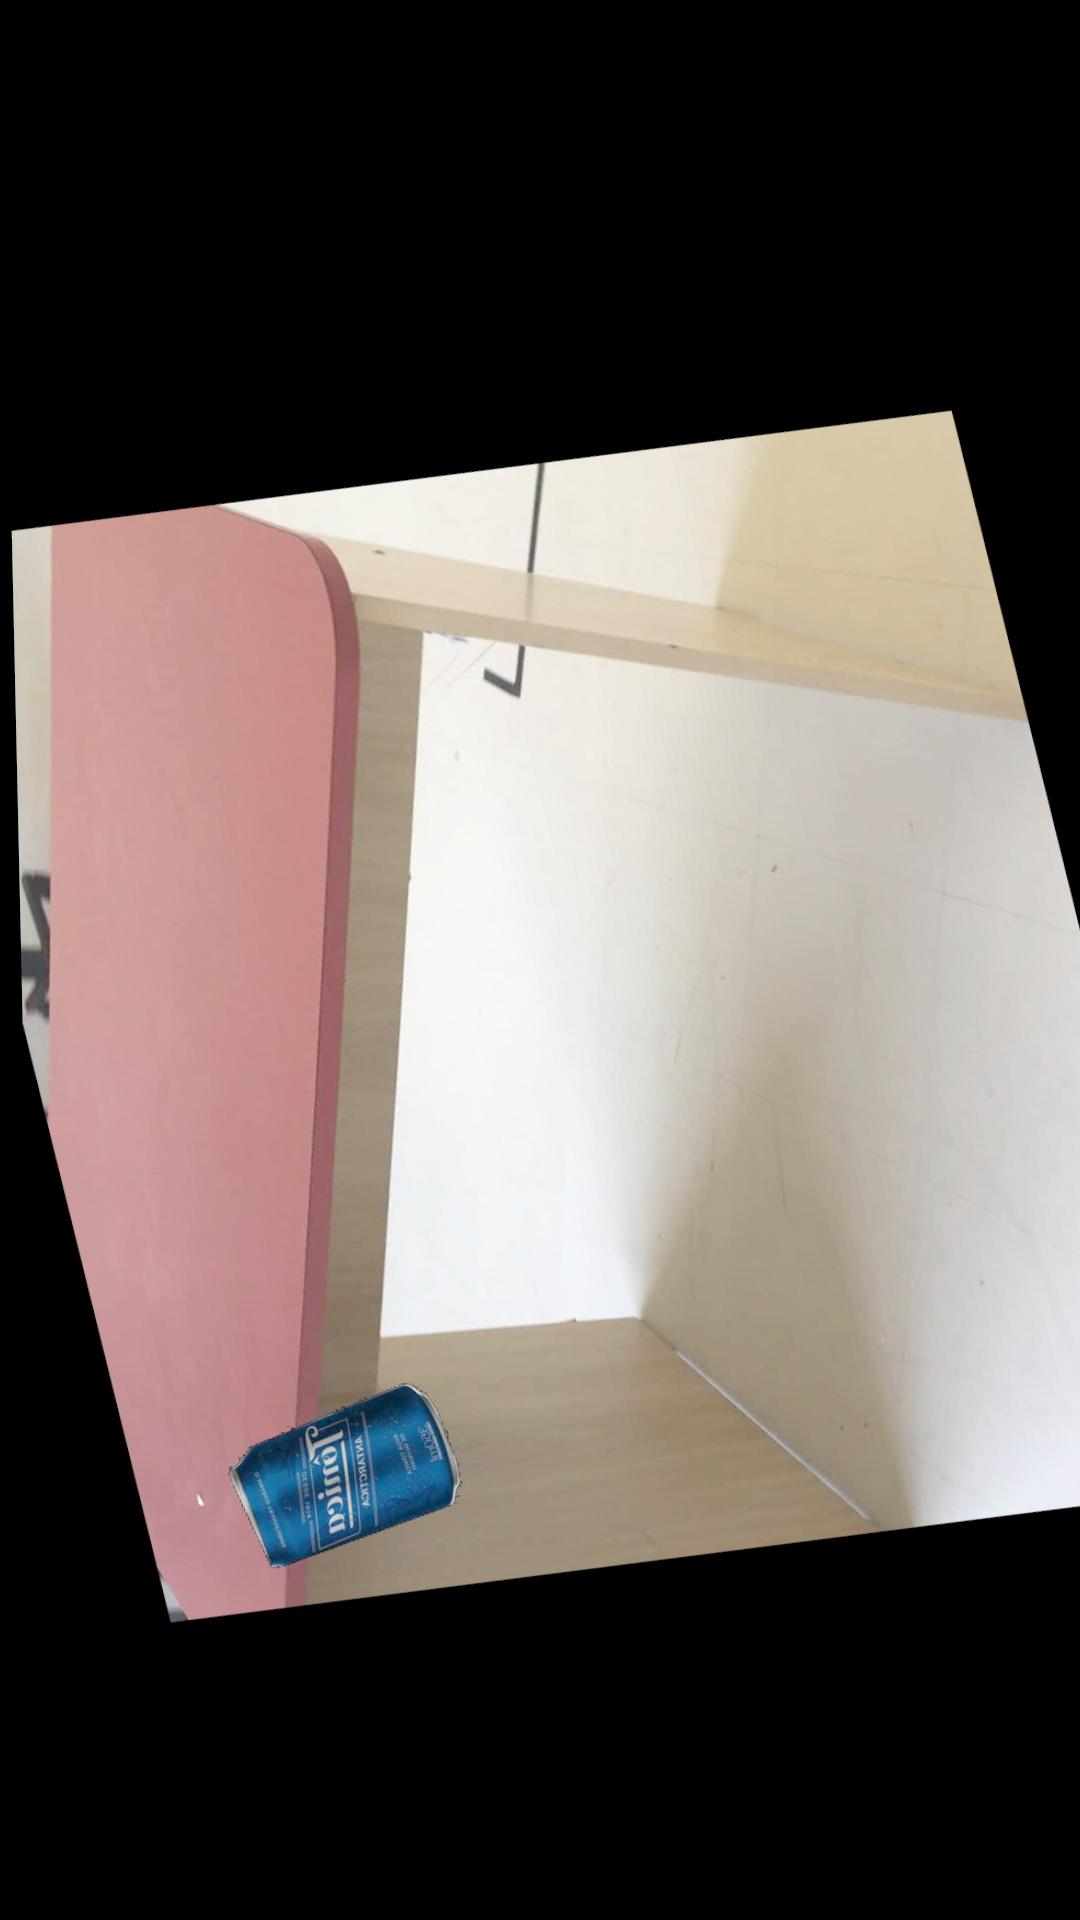tonic: (219, 1373, 451, 1561)
